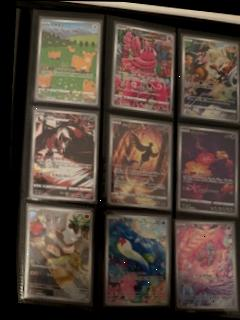card: (12, 199, 106, 311), (16, 103, 110, 210), (94, 109, 184, 216), (92, 208, 179, 316), (23, 9, 112, 112), (163, 212, 240, 320), (103, 21, 185, 119), (168, 124, 240, 221), (171, 32, 240, 126)
